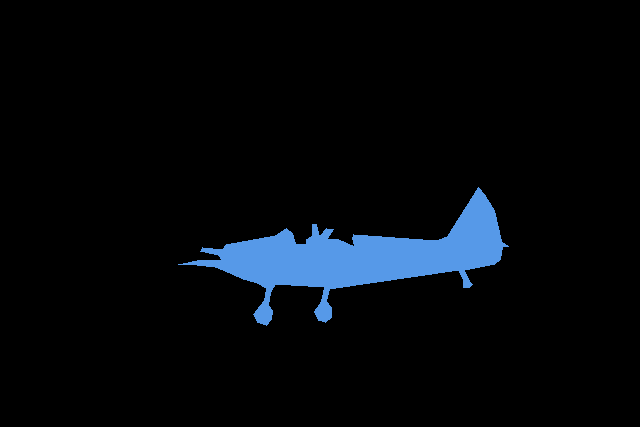Airplane: (178, 187, 509, 325)
